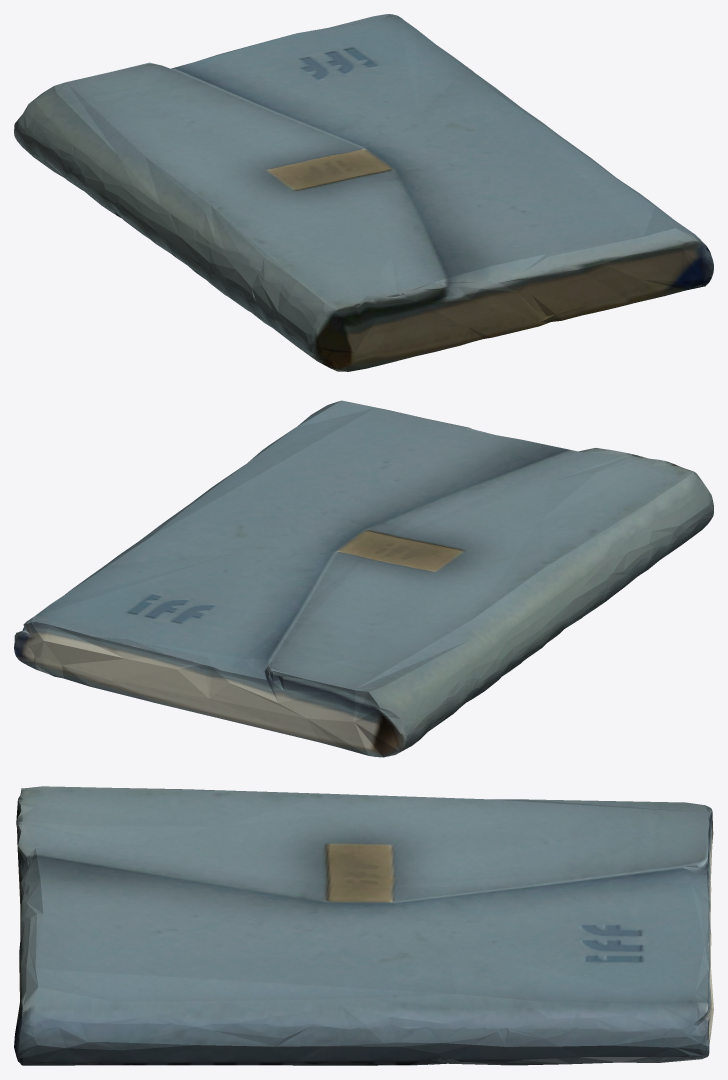
File: NotebookBlue.obj
3 renders of one model, top to bottom at view 1: azimuth 30°, elevation 25°; view 2: azimuth 150°, elevation 25°; view 3: azimuth 270°, elevation 25°, orthographic. The views are drawn at different scales.
Size of the model in its own units: 84.13 by 13.71 by 112.
Materials: 1 (1 with a texture image).
